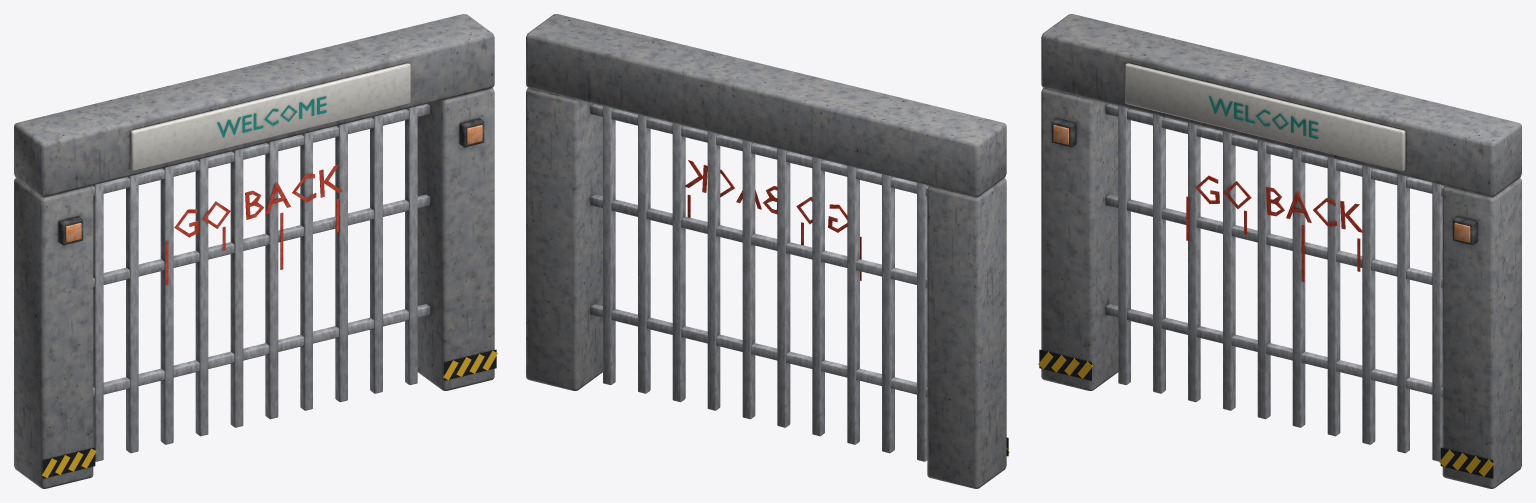
Rendered from entrance_gate.fbx.
3 views of the same model, side by side, from view 1: azimuth 30°, elevation 25°; view 2: azimuth 150°, elevation 25°; view 3: azimuth 330°, elevation 25° (orthographic).
Parts seen in each view (by area): view 1: Body, Slide, Glow; view 2: Body, Slide; view 3: Body, Slide, Glow.
Boxes of the visible parts, x1,y1,x2,y2 form: Body: (14, 14, 497, 488); Slide: (91, 103, 430, 461); Glow: (65, 125, 482, 242); Body: (526, 14, 1009, 488); Slide: (590, 103, 928, 461); Body: (1038, 14, 1521, 488); Slide: (1105, 103, 1444, 461); Glow: (1053, 125, 1470, 242).
Bounding box in the file's own units: 26.13 × 19 × 3.52.
1 material, 1 textured.
